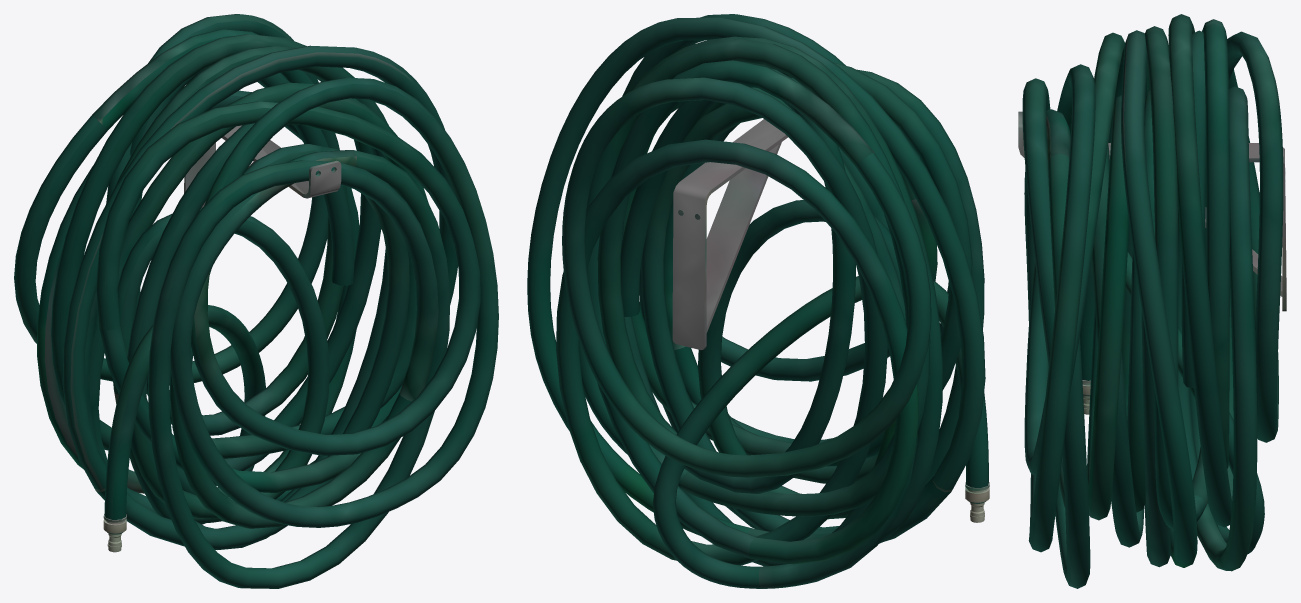
3 renders of one model, left to right at view 1: azimuth 30°, elevation 25°; view 2: azimuth 150°, elevation 25°; view 3: azimuth 270°, elevation 25°, orthographic. The views are drawn at different scales.
Visible parts, largest first — view 1: garden_hose, garden_hose_wall_bracket; view 2: garden_hose, garden_hose_wall_bracket; view 3: garden_hose, garden_hose_wall_bracket.
Part boxes in pixels (<box>): garden_hose: <box>14,14,498,588</box>; garden_hose_wall_bracket: <box>184,125,341,207</box>; garden_hose: <box>527,14,989,588</box>; garden_hose_wall_bracket: <box>672,119,787,349</box>; garden_hose: <box>1022,14,1283,588</box>; garden_hose_wall_bracket: <box>1018,111,1286,311</box>.
Size of the model in its own units: 0.4667 by 0.557 by 0.2503.
Materials: 1 (1 with a texture image).
